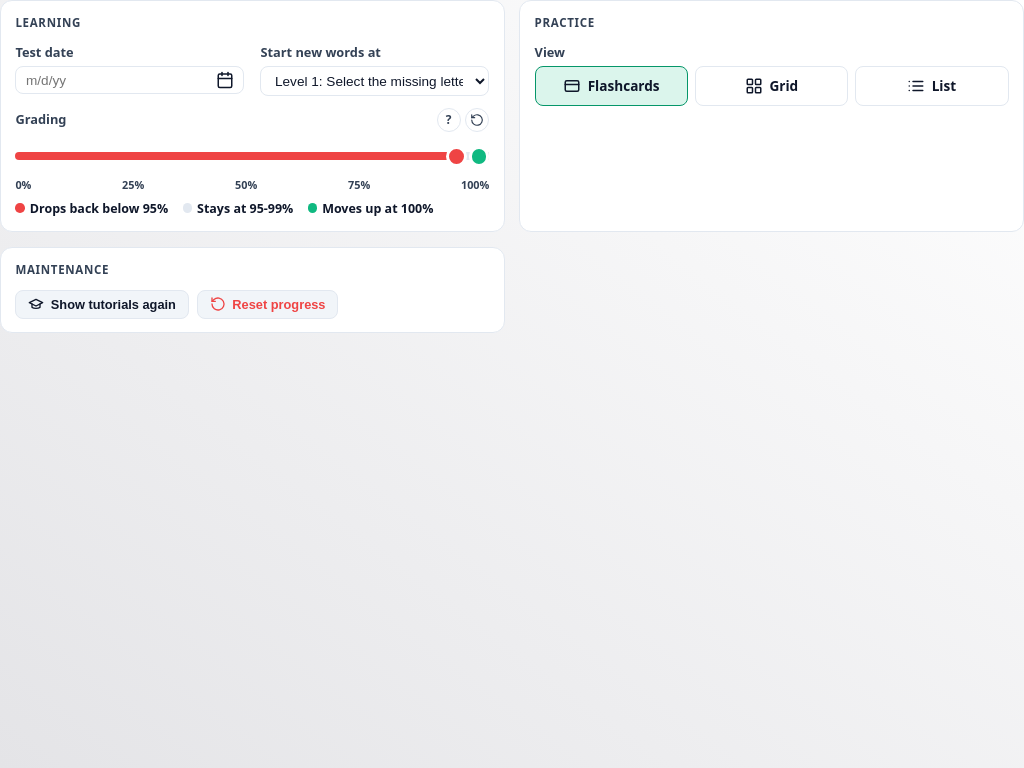
Scenario: DeckSettings grading bar › explains the handles behind a ? button
The width and height of the screenshot is (1024, 768).
Expected: the text "moves up a level" is not shown
Click the button named "What do the grading handles do": (449, 120) 437,108 -> 461,132
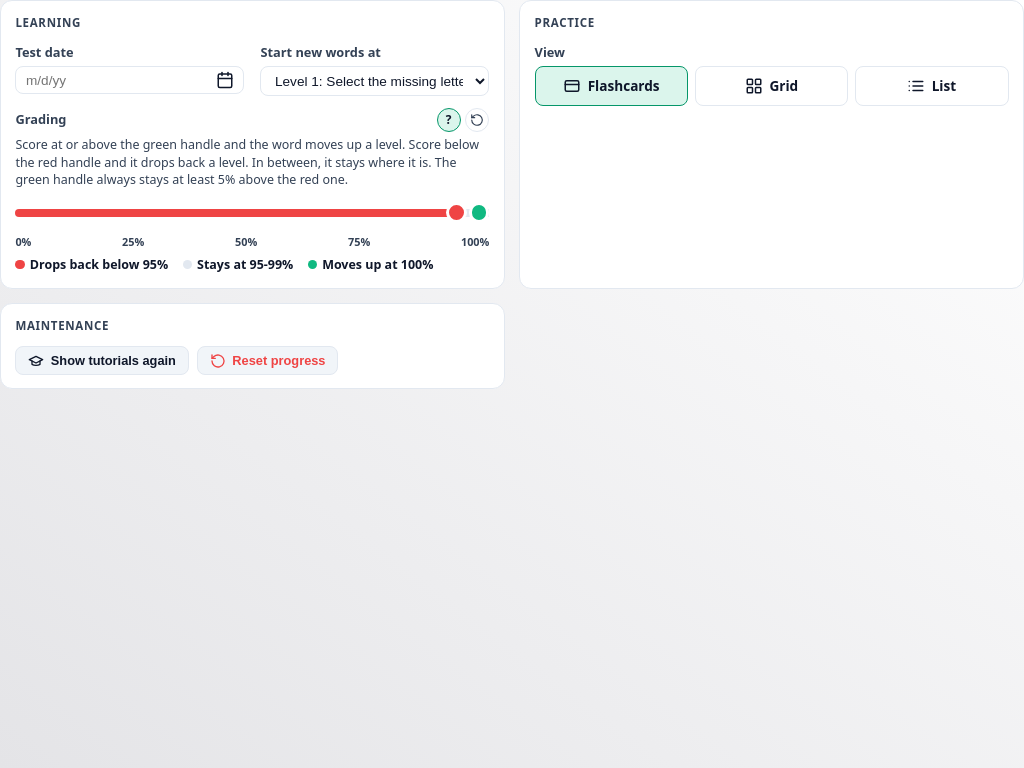
Expected: the text "moves up a level" is shown, 15,136 -> 479,188
